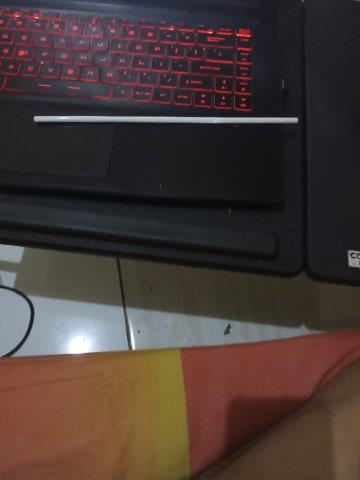sedotan: (33, 115, 298, 124)
